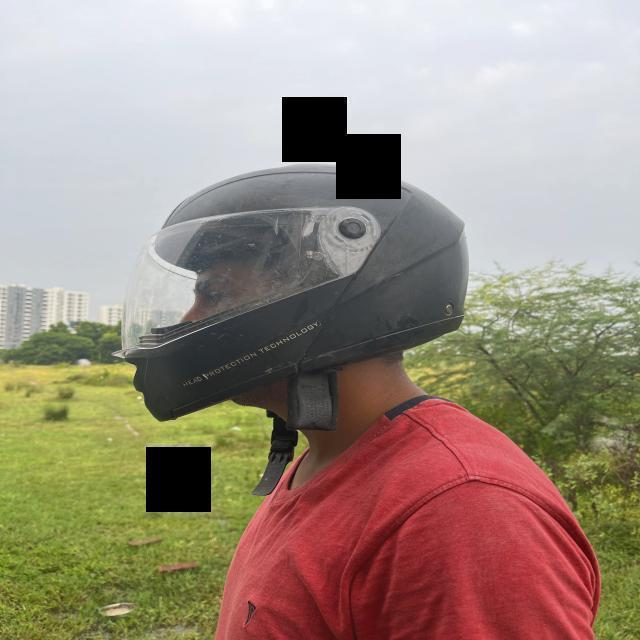helmet: (123, 158, 466, 502)
